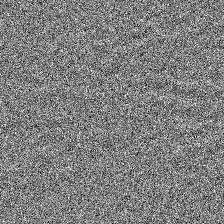cavities: (2, 7, 176, 177)
